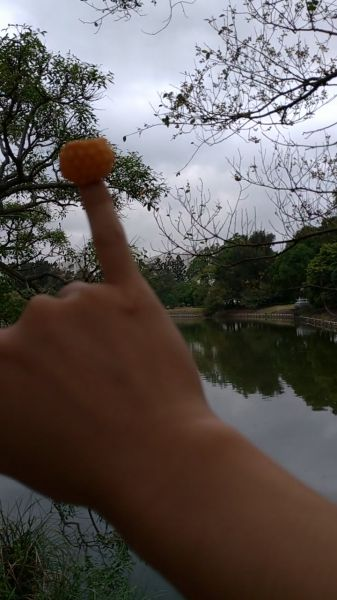eggs: (58, 138, 115, 183)
